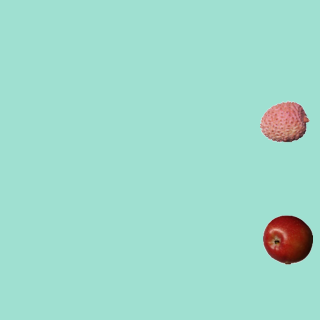Apple Braeburn: (262, 214, 312, 264)
Lychee: (259, 96, 309, 146)
